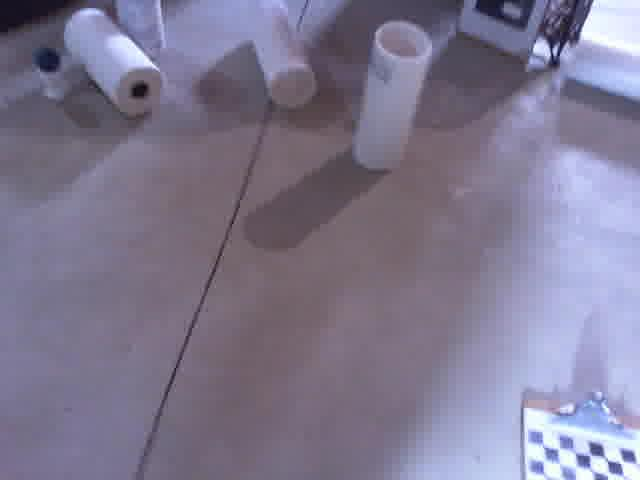coral: (355, 22, 432, 175), (66, 7, 162, 116), (241, 0, 317, 106), (113, 0, 169, 56)
